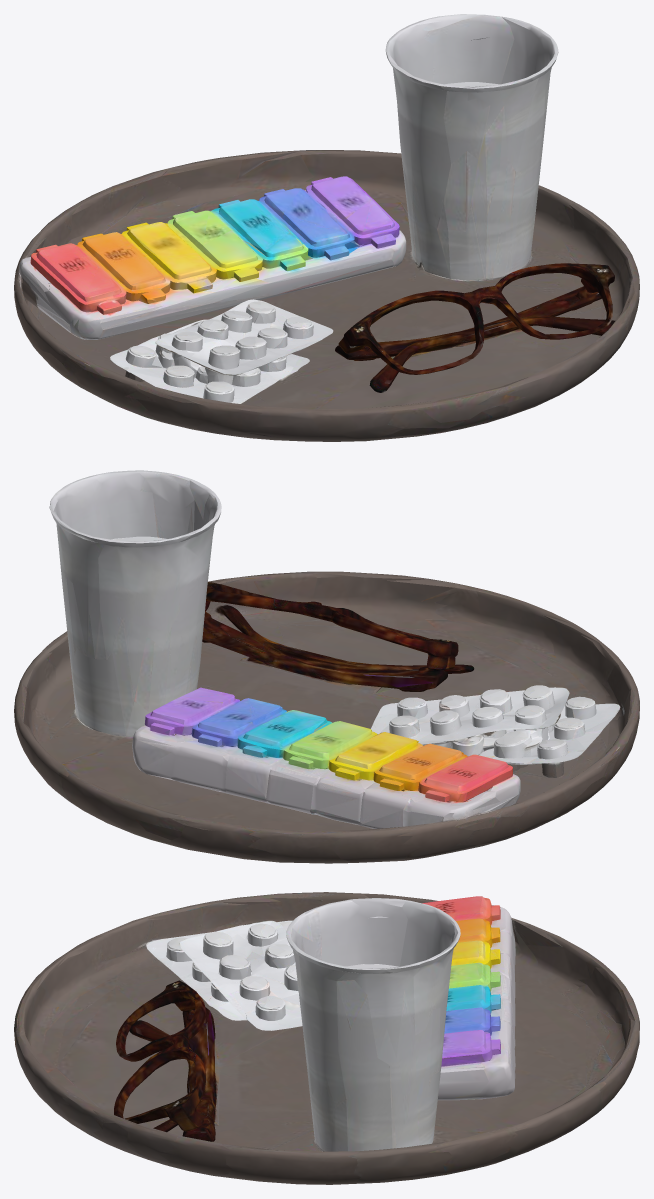
The model's file is w4pilltray.glb.
The picture shows the model from 3 angles, top to bottom: view 1: azimuth 30°, elevation 25°; view 2: azimuth 150°, elevation 25°; view 3: azimuth 270°, elevation 25°; orthographic projection.
Parts seen in each view (by area): view 1: output_unwrapped; view 2: output_unwrapped; view 3: output_unwrapped.
Boxes of the visible parts, <box> form: output_unwrapped: <box>14,14,639,441</box>; output_unwrapped: <box>14,470,639,863</box>; output_unwrapped: <box>14,892,639,1184</box>.
Size of the model in its own units: 0.3 by 0.1106 by 0.3.
1 material, 1 textured.
